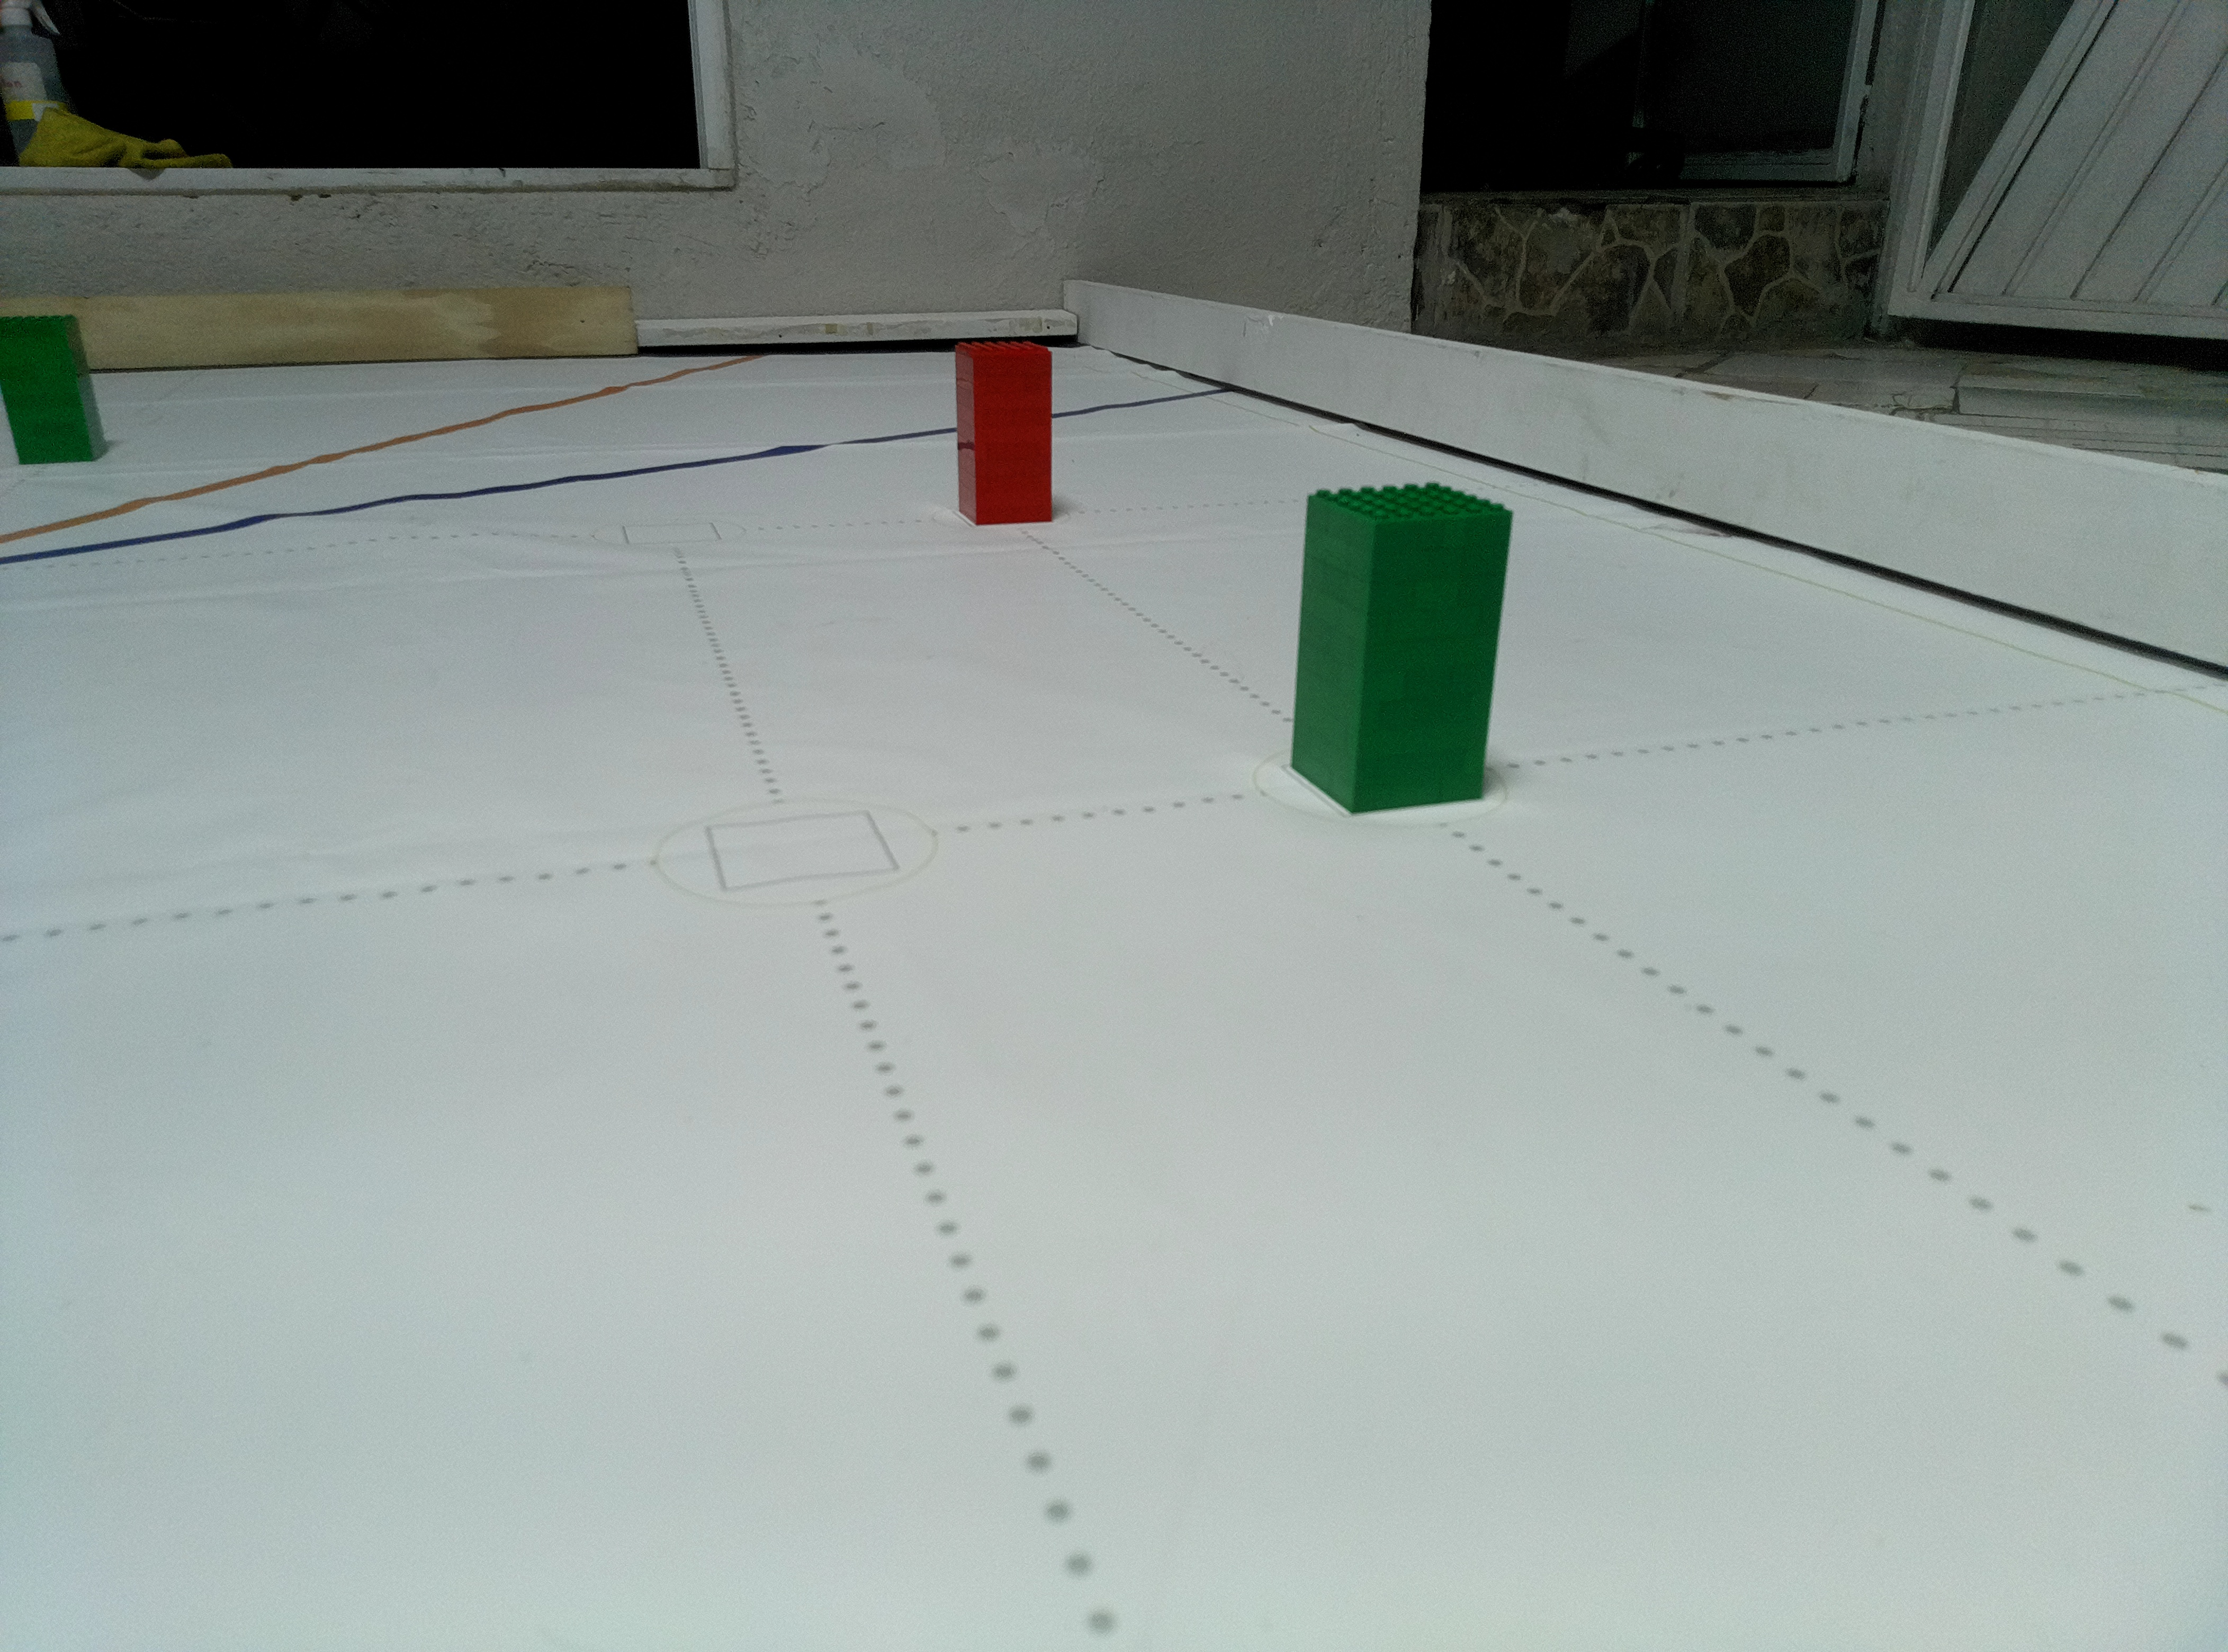greenbox: (1286, 481, 1511, 812), (0, 311, 111, 467)
redbox: (949, 338, 1055, 526)
